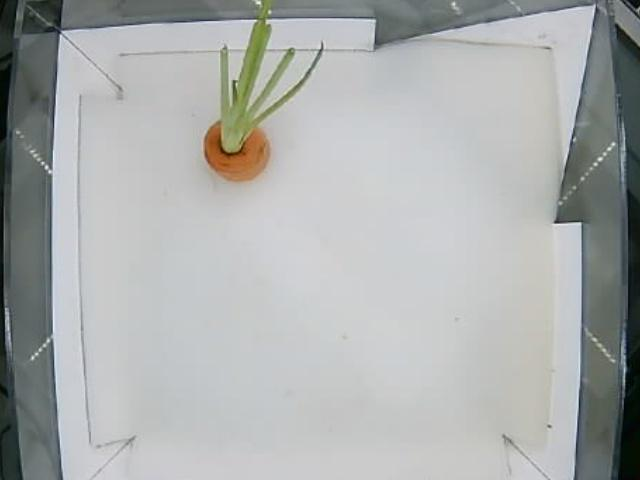Carrot: (202, 81, 290, 181)
